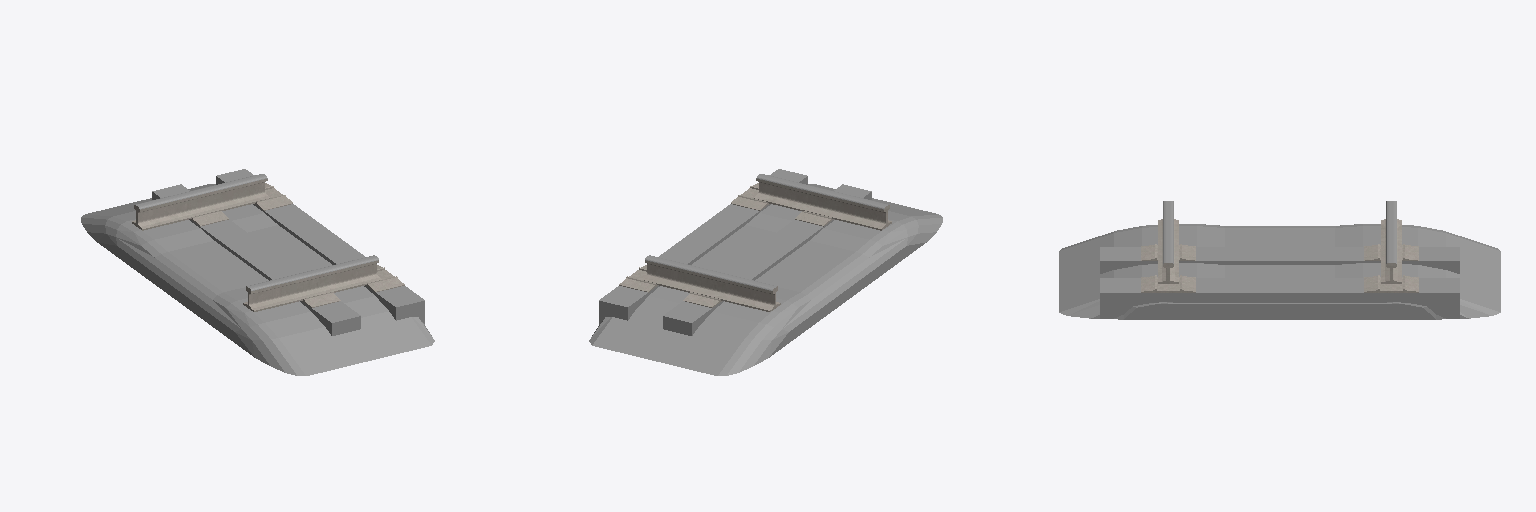
3 views of the same model, side by side, from view 1: azimuth 30°, elevation 25°; view 2: azimuth 150°, elevation 25°; view 3: azimuth 270°, elevation 25° (orthographic).
Parts seen in each view (by area): view 1: RAIL_BASE.001_Plane.005, RAIL_BASE_Plane.003, RAIL_RIGHT_Cube.000, RAIL_LEFT_Cube.001, RAIL_BASE.002_Plane.001; view 2: RAIL_BASE.001_Plane.005, RAIL_BASE_Plane.003, RAIL_LEFT_Cube.001, RAIL_RIGHT_Cube.000, RAIL_BASE.002_Plane.001; view 3: RAIL_BASE.001_Plane.005, RAIL_BASE_Plane.003, RAIL_BASE.002_Plane.001, RAIL_LEFT_Cube.001, RAIL_RIGHT_Cube.000.
Part boxes in pixels (x1,y1,x2,y2): RAIL_BASE.001_Plane.005: (81, 184, 434, 375); RAIL_BASE_Plane.003: (152, 169, 424, 335); RAIL_RIGHT_Cube.000: (132, 174, 269, 230); RAIL_LEFT_Cube.001: (243, 255, 381, 311); RAIL_BASE.002_Plane.001: (190, 183, 404, 307); RAIL_BASE.001_Plane.005: (589, 184, 942, 375); RAIL_BASE_Plane.003: (599, 169, 871, 335); RAIL_LEFT_Cube.001: (754, 174, 891, 230); RAIL_RIGHT_Cube.000: (642, 255, 780, 311); RAIL_BASE.002_Plane.001: (619, 183, 833, 307); RAIL_BASE.001_Plane.005: (1059, 224, 1500, 319); RAIL_BASE_Plane.003: (1100, 247, 1459, 318); RAIL_BASE.002_Plane.001: (1141, 244, 1418, 292); RAIL_LEFT_Cube.001: (1158, 201, 1178, 283); RAIL_RIGHT_Cube.000: (1381, 201, 1401, 283).
Bounding box in the file's own units: 1.25 × 0.3683 × 3.
Materials: 5 (1 with a texture image).